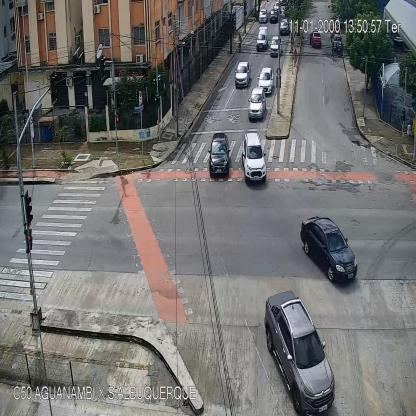bicycle: (237, 33, 242, 50), (331, 41, 335, 61)
car: (265, 292, 337, 412), (300, 215, 358, 287), (243, 132, 268, 180), (208, 132, 230, 180), (248, 88, 266, 118), (258, 65, 274, 93), (235, 63, 249, 84), (257, 24, 268, 50), (270, 35, 280, 56), (309, 31, 321, 48), (332, 34, 342, 51), (279, 18, 289, 34), (258, 9, 266, 22), (270, 10, 277, 24)
motorbike: (336, 41, 338, 54)
person: (293, 47, 298, 67), (232, 23, 236, 37)
